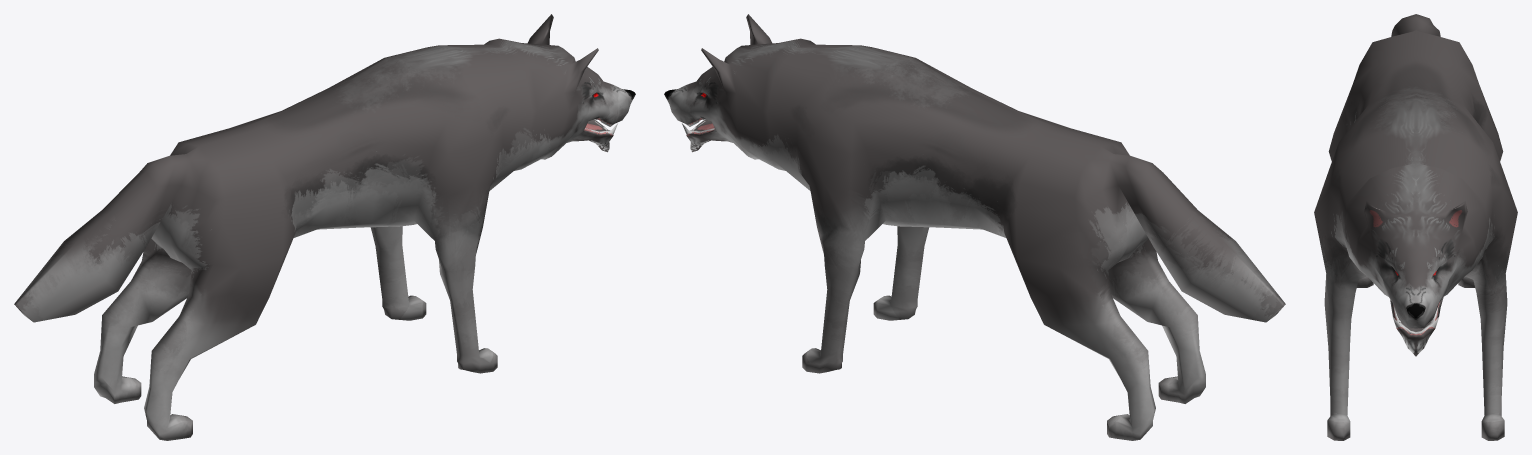
The model's file is wolf.fbx.
The picture shows the model from 3 angles, left to right: view 1: azimuth 30°, elevation 25°; view 2: azimuth 150°, elevation 25°; view 3: azimuth 270°, elevation 25°; orthographic projection. The views are drawn at different scales.
Parts seen in each view (by area): view 1: rabbit_obj_01_uvdone:pCube6; view 2: rabbit_obj_01_uvdone:pCube6; view 3: rabbit_obj_01_uvdone:pCube6.
Boxes of the visible parts, x1,y1,x2,y2 form: rabbit_obj_01_uvdone:pCube6: [14, 14, 635, 440]; rabbit_obj_01_uvdone:pCube6: [664, 14, 1285, 440]; rabbit_obj_01_uvdone:pCube6: [1314, 14, 1517, 440].
Bounding box in the file's own units: 413 × 187 × 110.
Materials: 1 (1 with a texture image).
